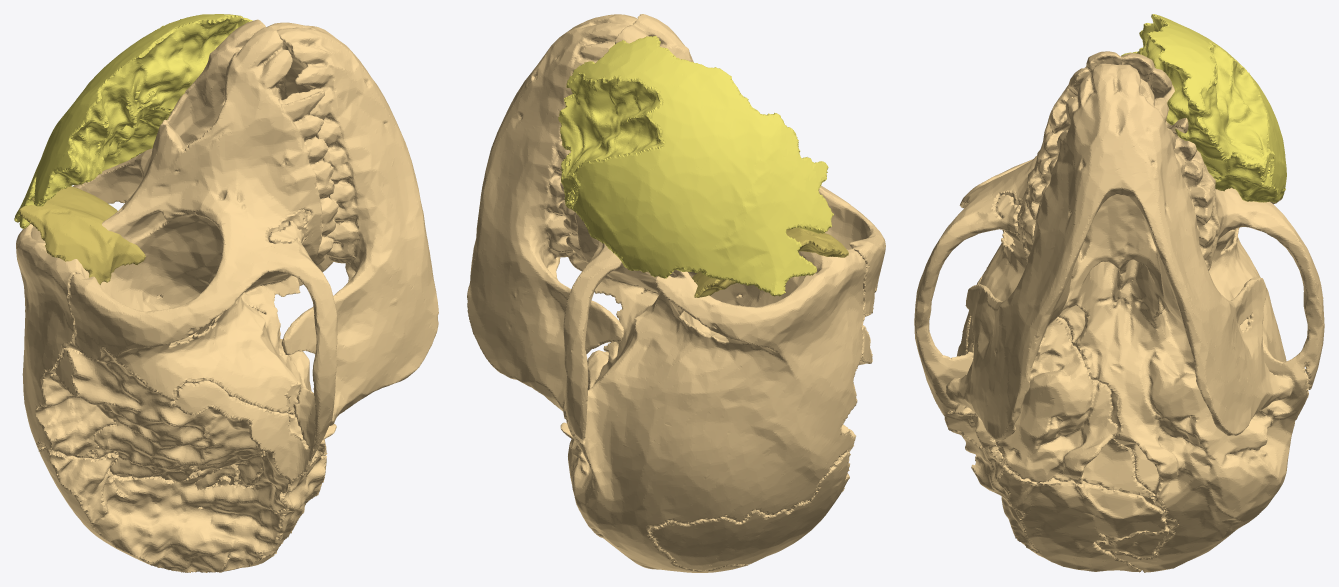
3 views of the same model, side by side, from view 1: azimuth 30°, elevation 25°; view 2: azimuth 150°, elevation 25°; view 3: azimuth 270°, elevation 25° (orthographic). The views are drawn at different scales.
Visible parts, largest first — view 1: world; view 2: world; view 3: world.
Boxes of the visible parts, x1,y1,x2,y2 form: world: (14, 14, 438, 572); world: (467, 14, 885, 572); world: (914, 14, 1324, 572).
Bounding box in the file's own units: 1.49 × 2.15 × 1.46.
